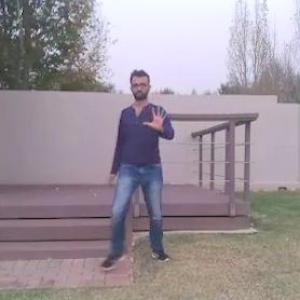follow_hand: (140, 99, 172, 134)
